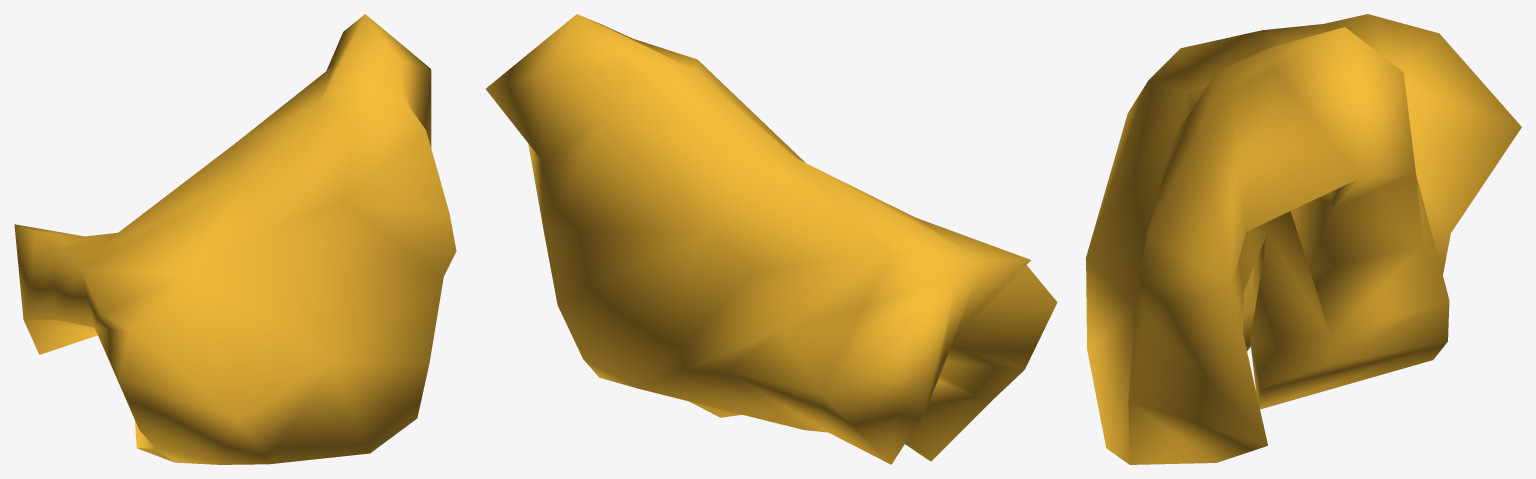
File: nervoso-lat-fis-ant-vertical-l.glb
The picture shows the model from 3 angles, left to right: view 1: azimuth 30°, elevation 25°; view 2: azimuth 150°, elevation 25°; view 3: azimuth 270°, elevation 25°; orthographic projection. The views are drawn at different scales.
Parts seen in each view (by area): view 1: Lat_Fis-ant-Vertical.l; view 2: Lat_Fis-ant-Vertical.l; view 3: Lat_Fis-ant-Vertical.l.
Boxes of the visible parts, box(x1,y1,x2,y2) form: Lat_Fis-ant-Vertical.l: box(14, 14, 456, 464); Lat_Fis-ant-Vertical.l: box(486, 14, 1057, 464); Lat_Fis-ant-Vertical.l: box(1086, 14, 1521, 464).
Bounding box in the file's own units: 0.0153 × 0.0131 × 0.0107.
